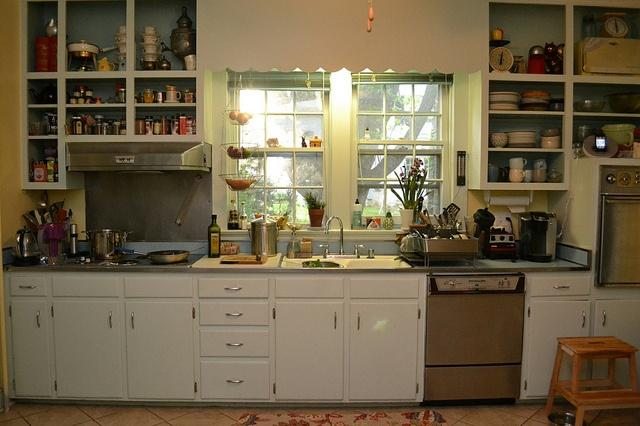Lemari: (0, 271, 424, 404)
Rak: (60, 0, 203, 137), (478, 0, 572, 188), (568, 0, 639, 152), (20, 0, 64, 189)
